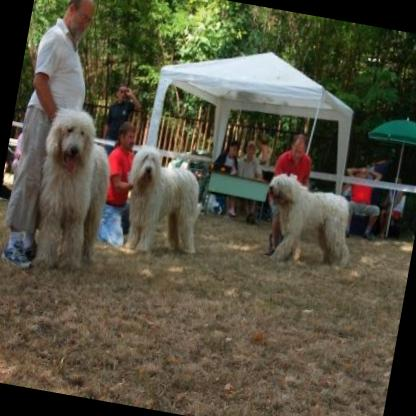komondor: (18, 98, 123, 277), (251, 164, 362, 285), (112, 139, 212, 261)
